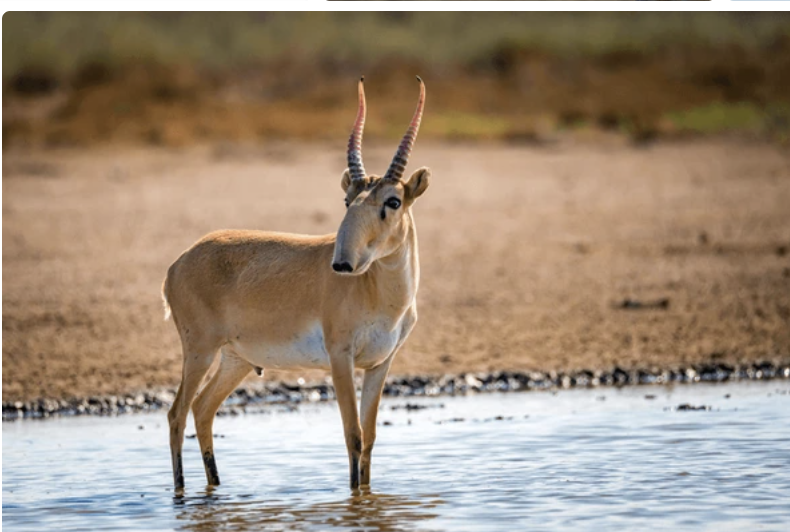saiga: (160, 79, 428, 514)
